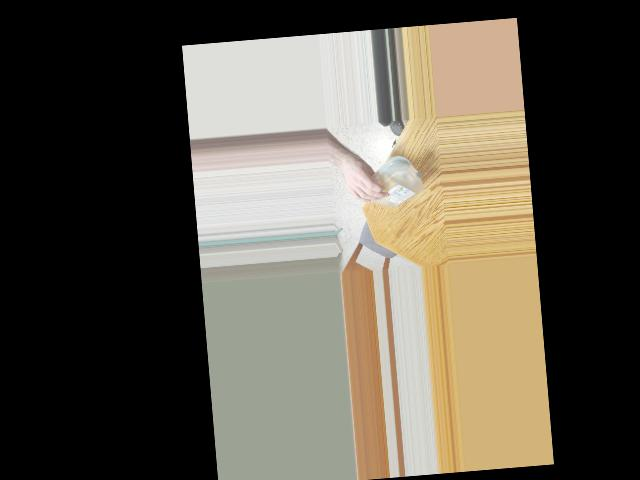cheese: (357, 155, 426, 213)
